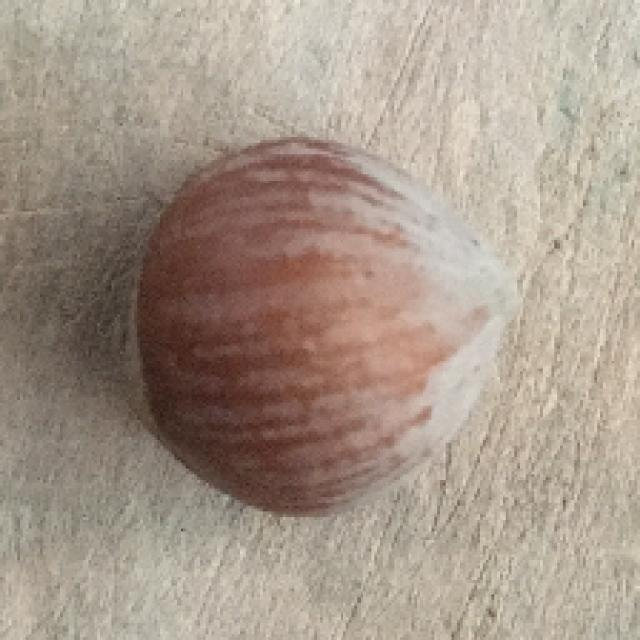qualityHazelnut: (121, 133, 524, 519)
